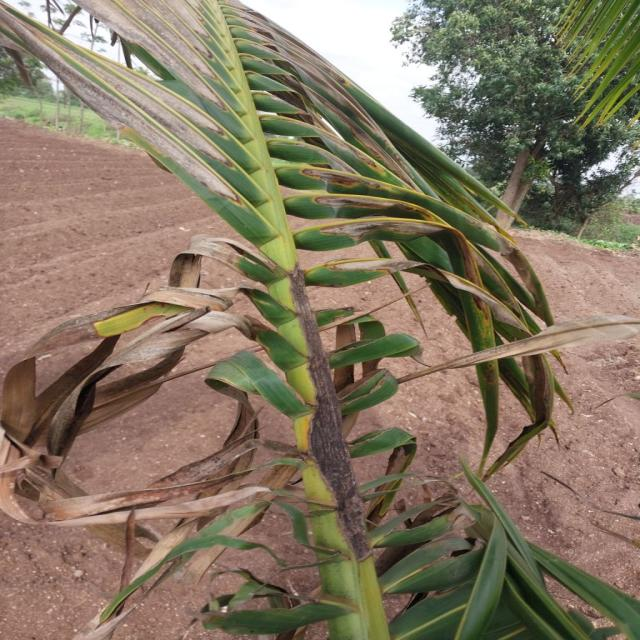leaf rot: (3, 220, 470, 611)
